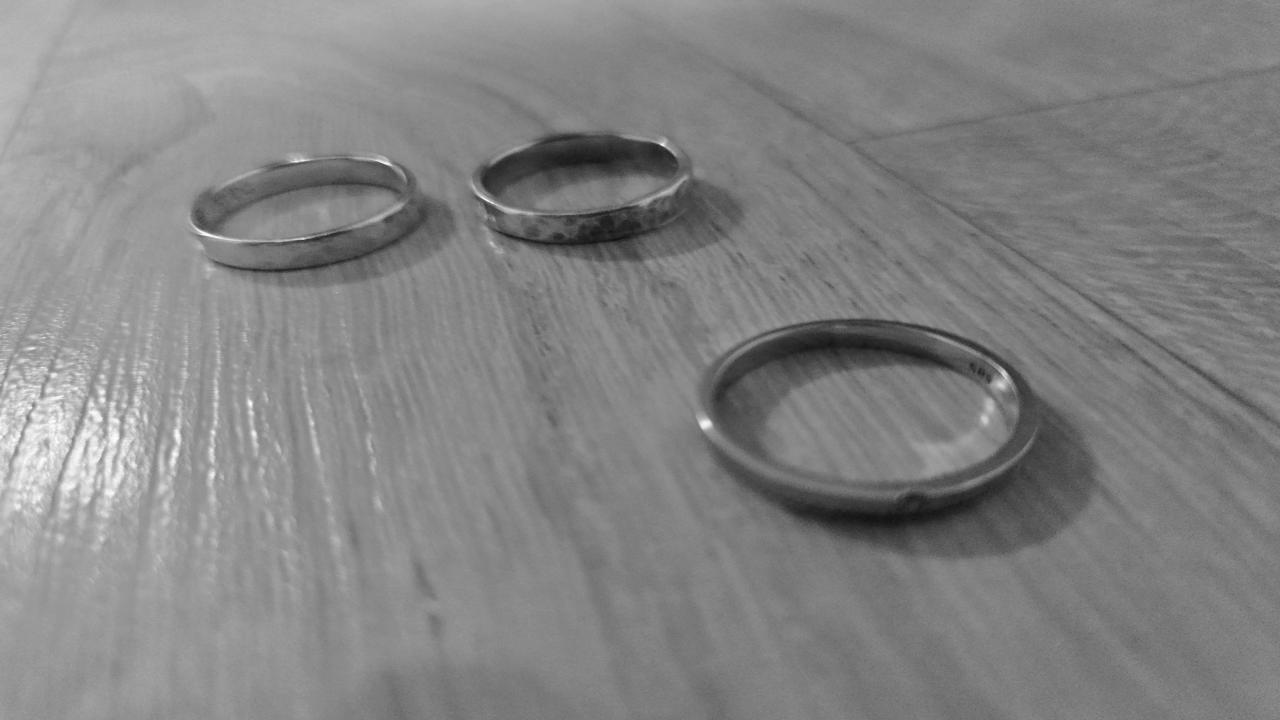ring: (693, 317, 1043, 516), (182, 151, 418, 270), (467, 130, 691, 244)
